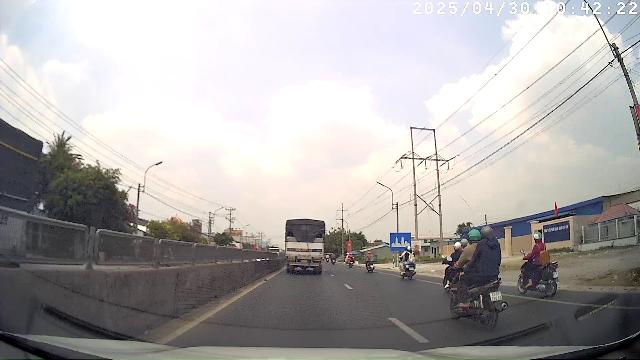420-bat-dau-khu-dong-dan-cu: (390, 233, 410, 249)
